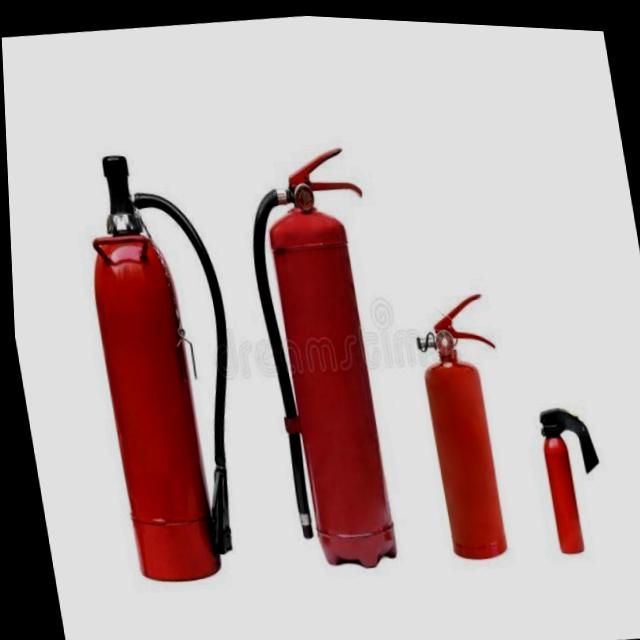FireExtinguisher: (64, 136, 265, 592), (230, 132, 424, 576), (403, 281, 528, 561), (527, 388, 613, 553)
